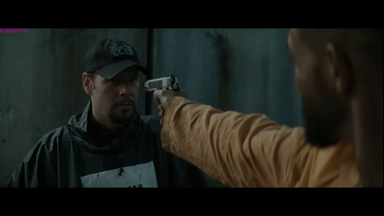firearm: (140, 71, 182, 96)
